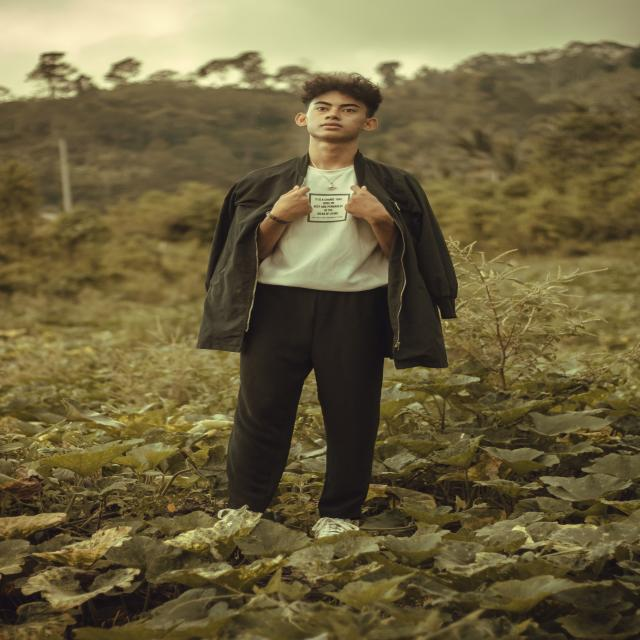standing: (200, 74, 470, 536)
